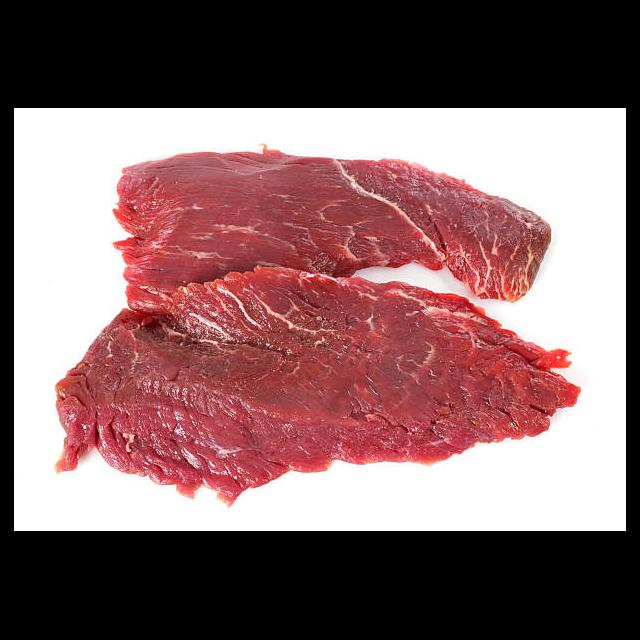beef: (55, 262, 582, 510), (114, 142, 551, 304)
